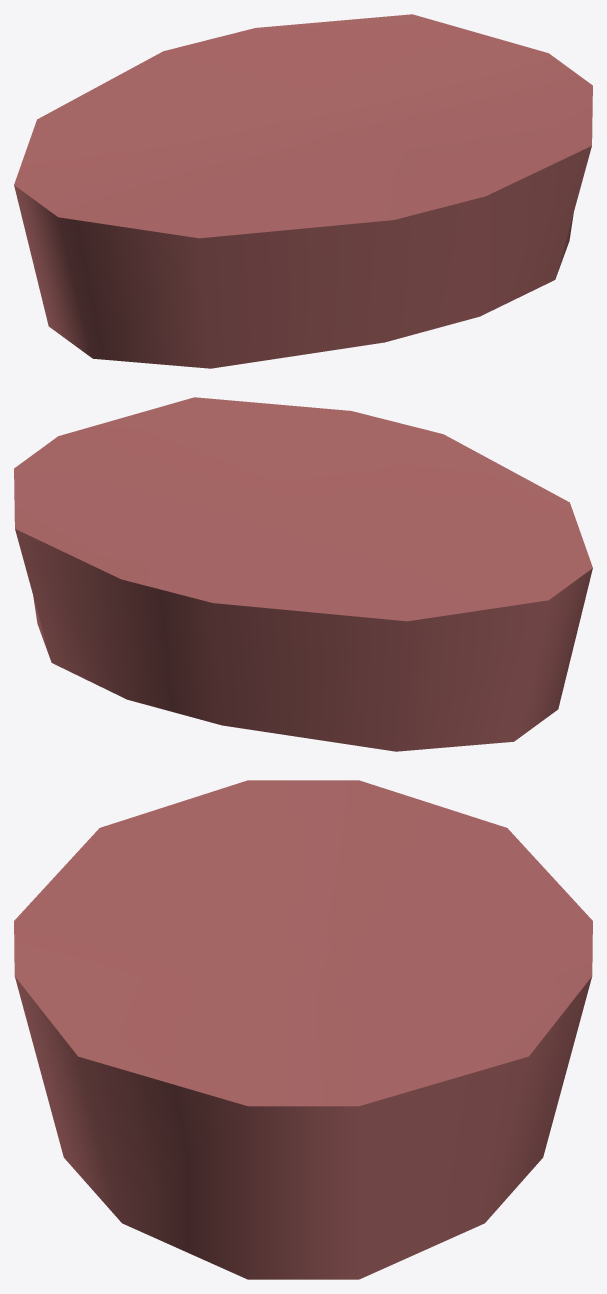
Rendered from Fish_Raz_2.fbx.
3 views of the same model, one above another, from view 1: azimuth 30°, elevation 25°; view 2: azimuth 150°, elevation 25°; view 3: azimuth 270°, elevation 25° (orthographic). The views are drawn at different scales.
Parts seen in each view (by area): view 1: polySurface2; view 2: polySurface2; view 3: polySurface2.
Boxes of the visible parts, x1,y1,x2,y2 form: polySurface2: (14, 14, 592, 368); polySurface2: (14, 397, 592, 751); polySurface2: (14, 780, 592, 1279).
Size of the model in its own units: 54.29 by 15.26 by 40.56.
